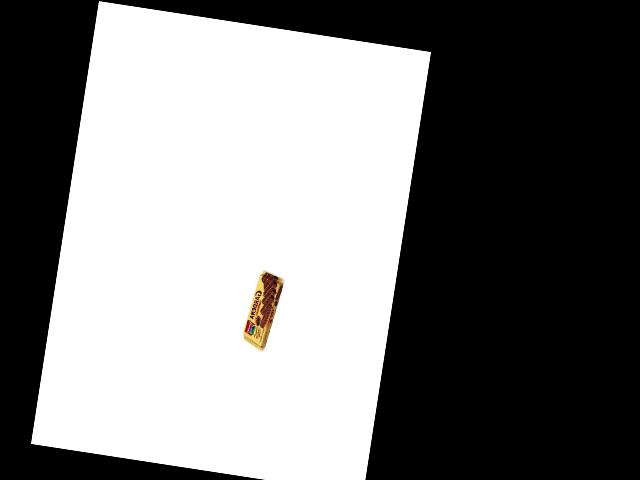chocolate: (239, 265, 282, 354)
